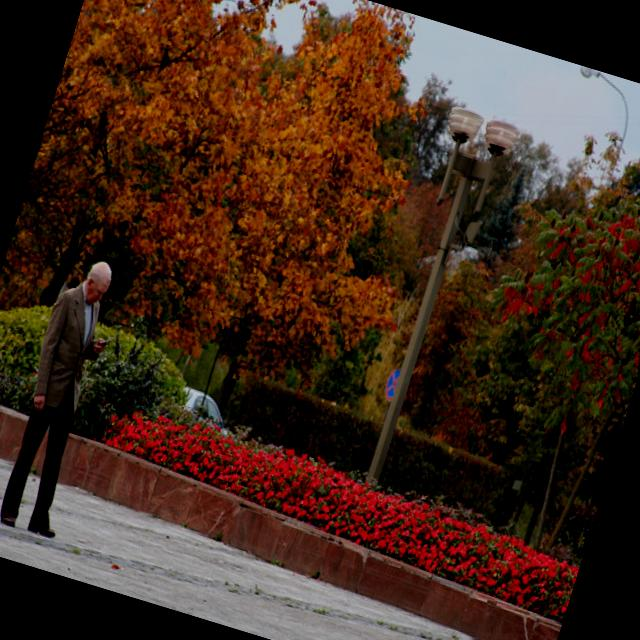Vehicle: (164, 382, 244, 440)
